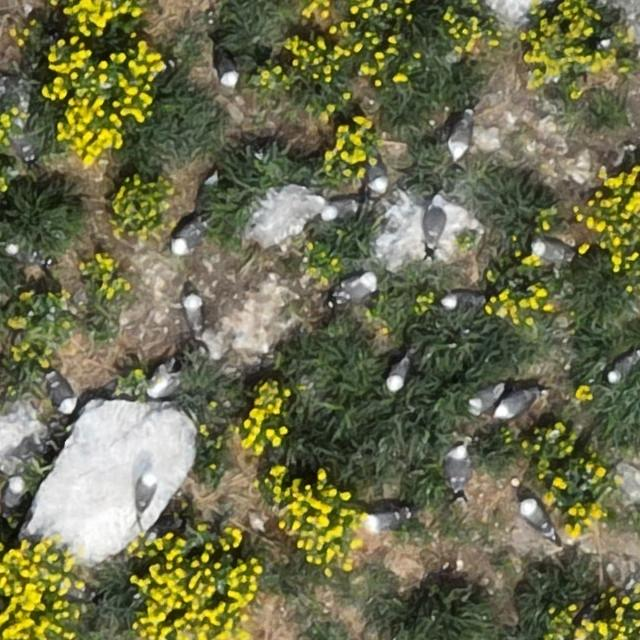umineko: (496, 391, 536, 418), (522, 500, 551, 534), (446, 446, 468, 490), (426, 202, 447, 246), (50, 378, 75, 414), (338, 274, 374, 299), (468, 386, 502, 412), (6, 245, 48, 266), (449, 115, 471, 155), (608, 353, 636, 382), (175, 224, 203, 252), (323, 199, 358, 219), (388, 358, 409, 391), (533, 241, 569, 260), (368, 158, 388, 190), (366, 511, 399, 530), (441, 292, 477, 309), (220, 55, 239, 85), (4, 478, 23, 508), (137, 473, 154, 506), (183, 297, 200, 329)
